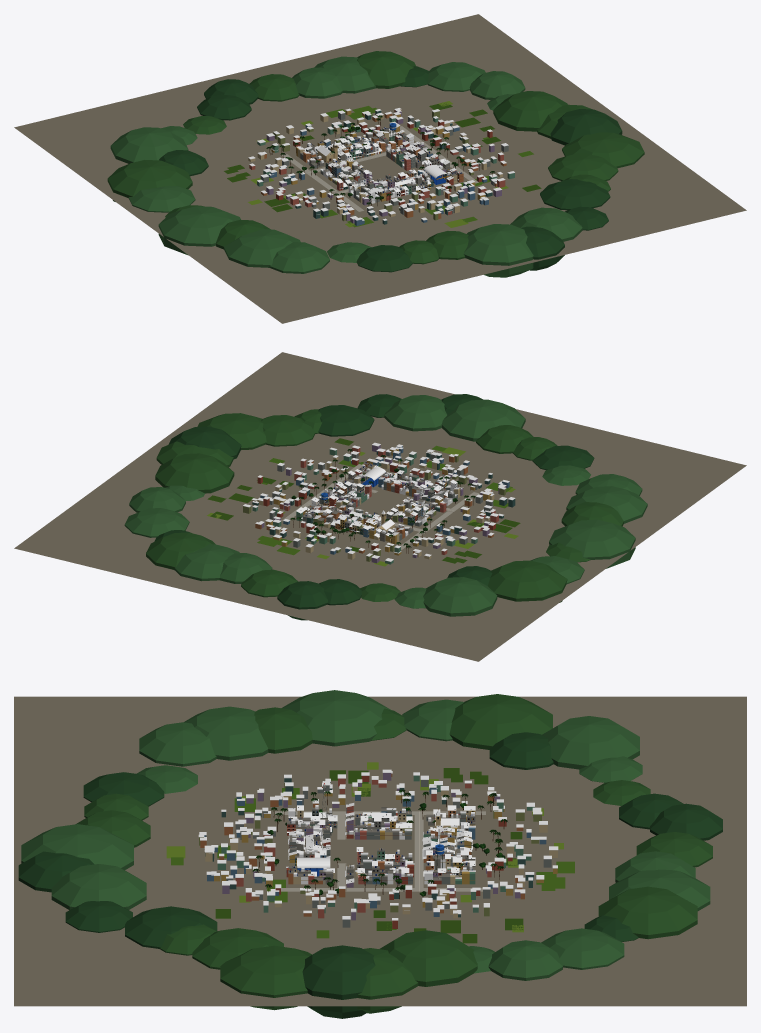
The model's file is kalye_beyond.glb.
The picture shows the model from 3 angles, top to bottom: view 1: azimuth 30°, elevation 25°; view 2: azimuth 150°, elevation 25°; view 3: azimuth 270°, elevation 25°; orthographic projection. The views are drawn at different scales.
Visible parts, largest first — view 1: beyond_ground, beyond_far, beyond_near, beyond_trees, beyond_landmarks; view 2: beyond_ground, beyond_far, beyond_near, beyond_trees, beyond_landmarks; view 3: beyond_ground, beyond_far, beyond_near, beyond_trees, beyond_landmarks.
Boxes of the visible parts, left/top/right/bottom form: beyond_ground: left=14, top=14, right=746, bottom=323; beyond_far: left=296, top=122, right=463, bottom=205; beyond_near: left=337, top=138, right=436, bottom=189; beyond_trees: left=266, top=115, right=495, bottom=206; beyond_landmarks: left=317, top=123, right=448, bottom=189; beyond_ground: left=14, top=352, right=746, bottom=661; beyond_far: left=296, top=462, right=463, bottom=544; beyond_near: left=328, top=477, right=436, bottom=525; beyond_trees: left=290, top=449, right=475, bottom=553; beyond_landmarks: left=321, top=467, right=445, bottom=532; beyond_ground: left=14, top=690, right=746, bottom=1018; beyond_far: left=286, top=803, right=475, bottom=887; beyond_near: left=313, top=816, right=443, bottom=876; beyond_trees: left=252, top=789, right=507, bottom=899; beyond_landmarks: left=296, top=781, right=459, bottom=876.
Bounding box in the file's own units: 681 × 77.86 × 680.
